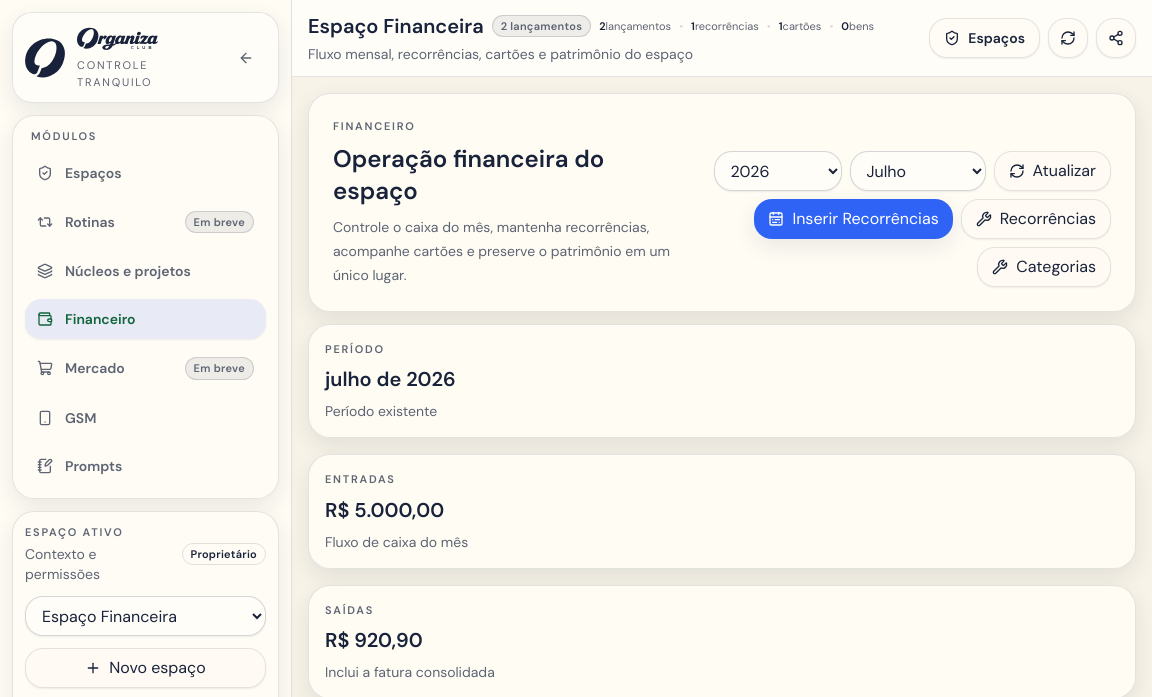
FinanceDashboardWorkspace › opens the recurring templates modal from the toolbar
The image size is (1152, 697).
Click the button "Recorrências" at (1036, 218), box [961,198,1111,238]
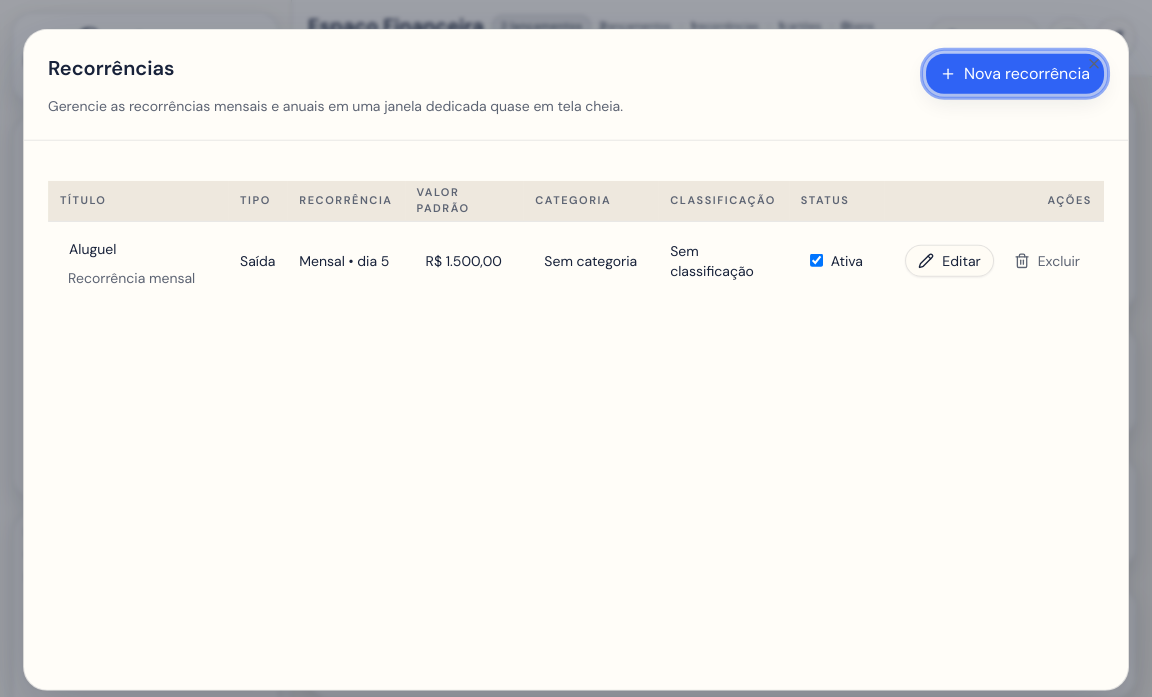
Result: the dialog "Recorrências" is shown
Result: the button "Nova recorrência" is shown at [926,54,1104,94]
Result: the text "Aluguel" is shown at [69,238,116,258]
